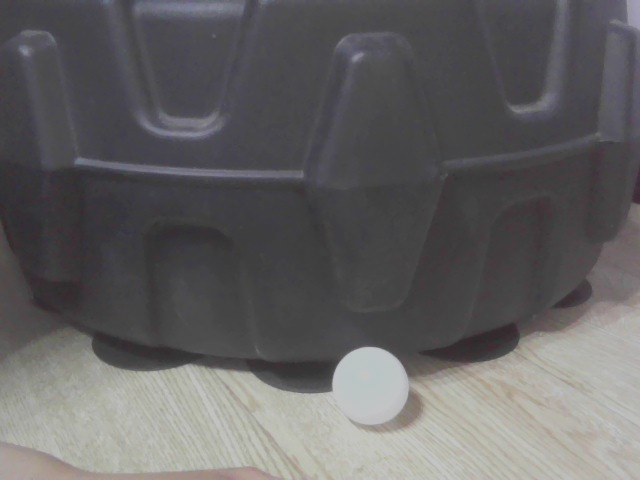ball: (333, 347, 409, 429)
